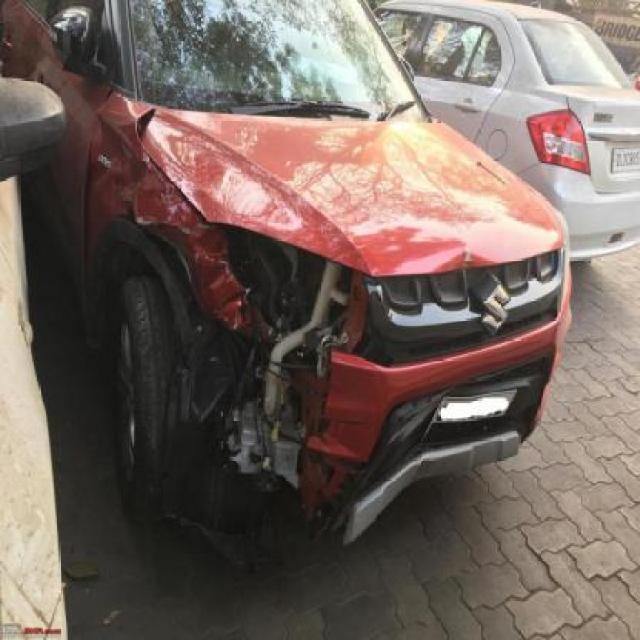fender-dent: (66, 94, 182, 328)
front-bumper-dent: (179, 237, 577, 508)
